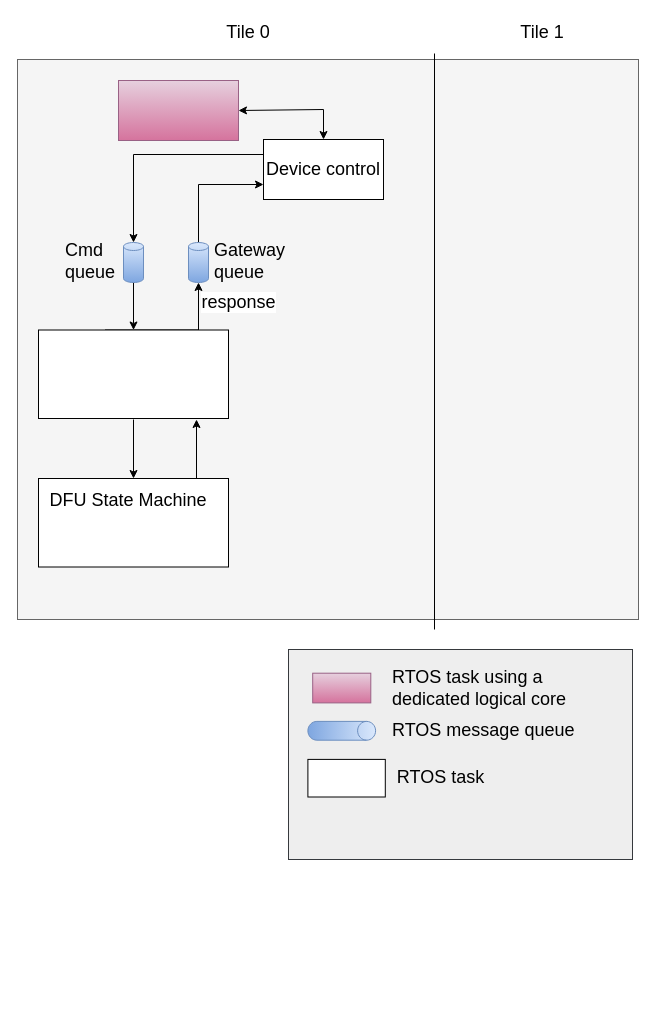
Image size: 656x1036. Some labels were removed from this diagram. Here are the shapes that lost their labels. From the top down, the centre of each, then its label:
the point at 178,110: I2C
the point at 133,373: DFU Servicer
